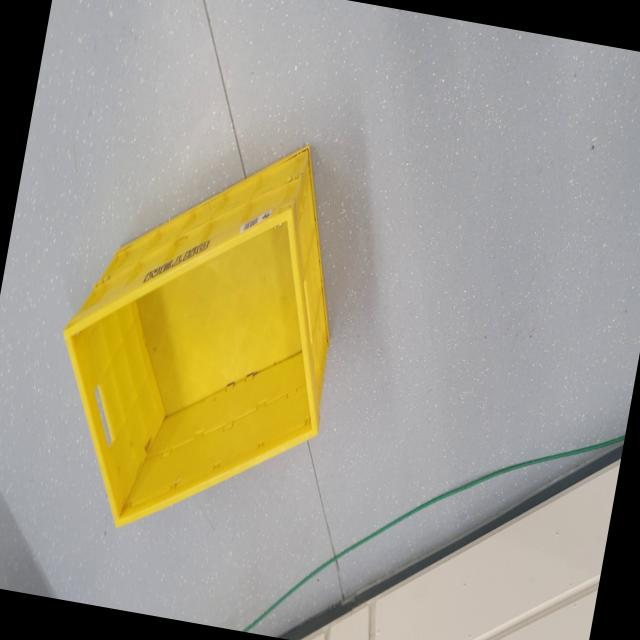box: (21, 84, 375, 586)
